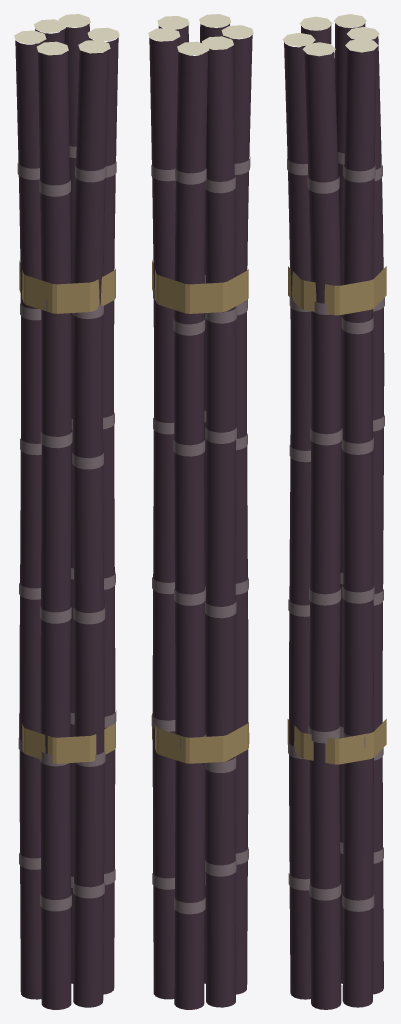
File: BoMia.glb
3 renders of one model, left to right at view 1: azimuth 30°, elevation 25°; view 2: azimuth 210°, elevation 25°; view 3: azimuth 270°, elevation 25°, orthographic.
Parts seen in each view (by area): view 1: BoMia; view 2: BoMia; view 3: BoMia.
Part boxes in pixels (<box>): BoMia: <box>14,14,119,1009</box>; BoMia: <box>148,14,253,1009</box>; BoMia: <box>282,14,386,1009</box>.
Size of the model in its own units: 0.1062 by 1.1 by 0.1091.
